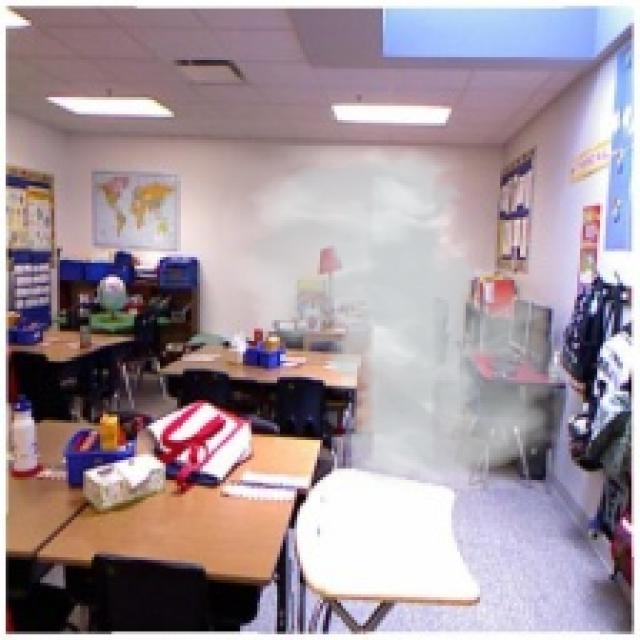smoke: (223, 146, 583, 488)
